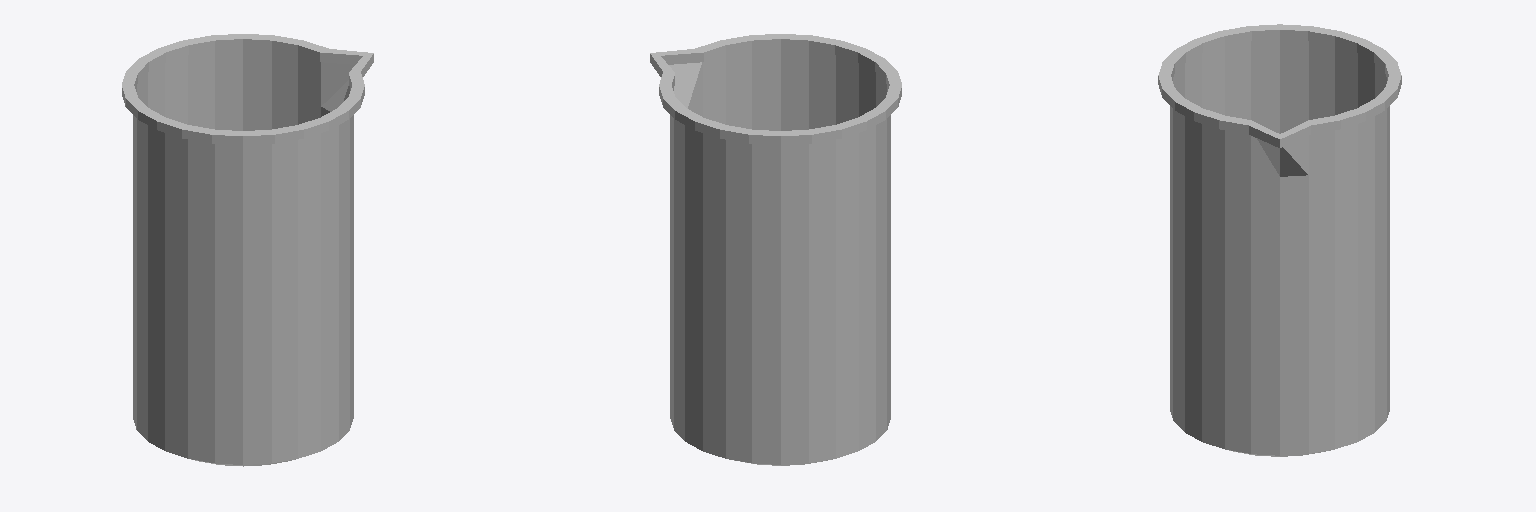
Rendered from Pronbeta2.obj.
3 renders of one model, left to right at view 1: azimuth 30°, elevation 25°; view 2: azimuth 150°, elevation 25°; view 3: azimuth 270°, elevation 25°, orthographic.
Visible parts, largest first — view 1: Cilindro.002; view 2: Cilindro.002; view 3: Cilindro.002.
Part boxes in pixels (left/top/right/bottom): Cilindro.002: left=122, top=34, right=373, bottom=466; Cilindro.002: left=650, top=34, right=901, bottom=465; Cilindro.002: left=1158, top=24, right=1401, bottom=456.
Bounding box in the file's own units: 0.4134 × 0.5821 × 0.3689.